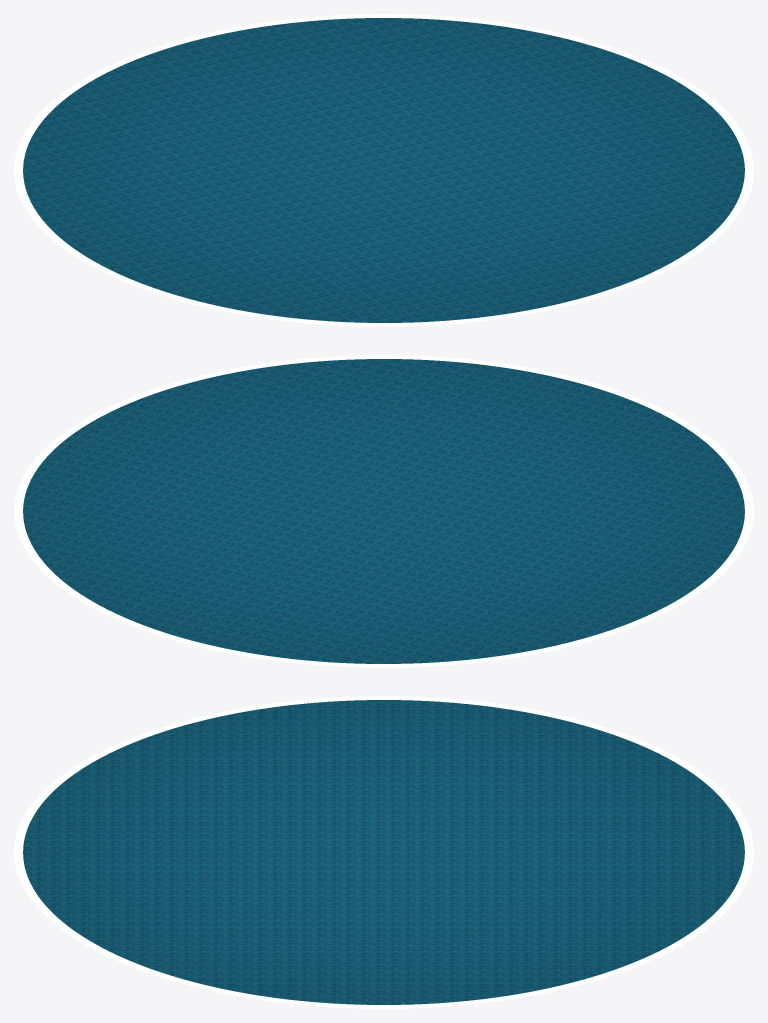
The model's file is Ocean Floor.glb.
3 renders of one model, top to bottom at view 1: azimuth 30°, elevation 25°; view 2: azimuth 150°, elevation 25°; view 3: azimuth 270°, elevation 25°, orthographic.
Parts seen in each view (by area): view 1: ocean; view 2: ocean; view 3: ocean.
Part boxes in pixels (x1,y1,x2,y2): ocean: [14, 14, 753, 326]; ocean: [14, 355, 753, 667]; ocean: [14, 696, 753, 1008].
Bounding box in the file's own units: 1304 × 0 × 1304.
2 materials, 2 textured.
